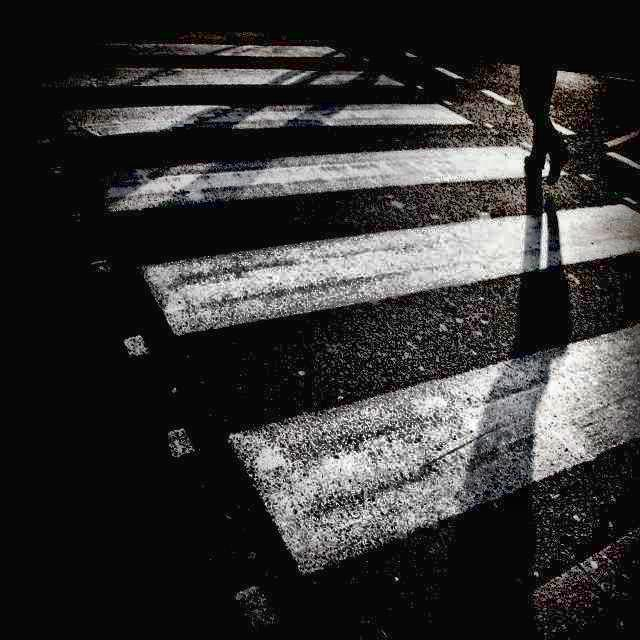faixa de pedestre: (38, 26, 630, 576)
